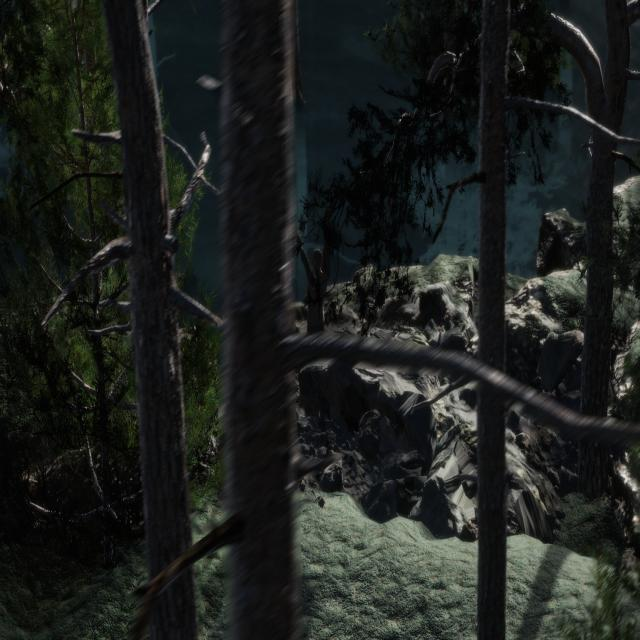Human: (291, 218, 340, 334)
